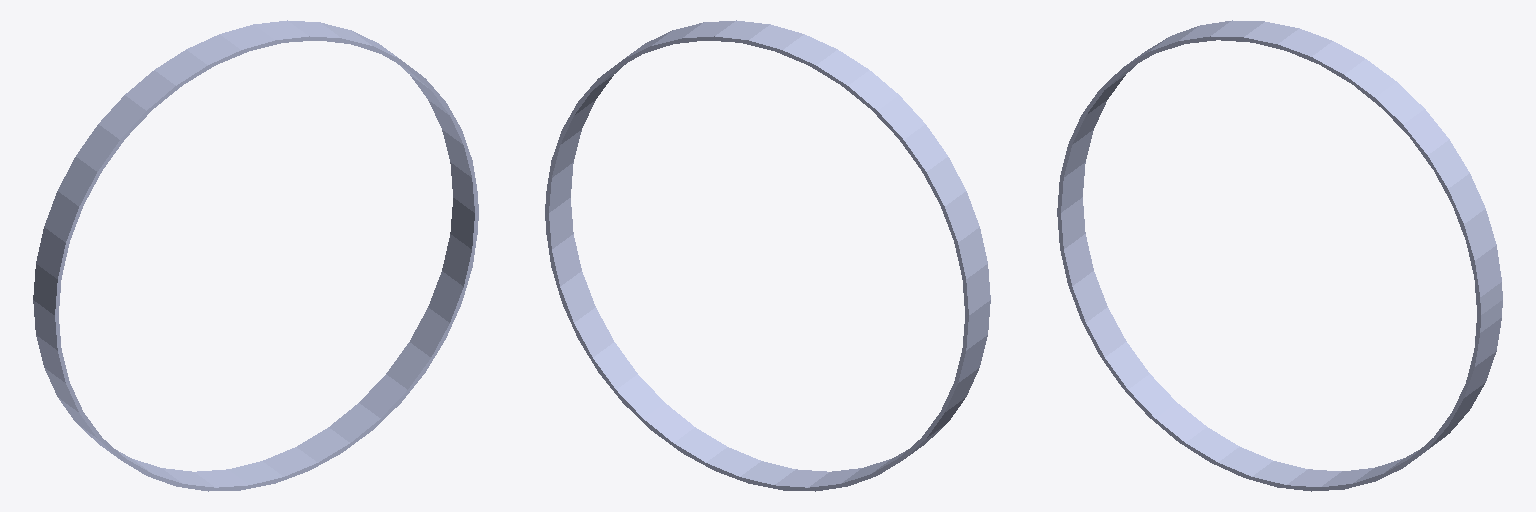
The robot description file, URDF, robot "ring.SLDPRT":
<robot
  name="ring.SLDPRT">
  <link
    name="ring">
    <inertial>
      <origin
        xyz="4.0968E-16 -0.015 9.18454765366783E-19"
        rpy="0 0 0" />
      <mass
        value="0.094154" />
      <inertia
        ixx="0.001312241311471"
        ixy="-6.9590790831882E-33"
        ixz="-1.3339474659106E-34"
        iyy="0.00261035959316777"
        iyz="-7.94841947889434E-20"
        izz="0.00131224131147099" />
    </inertial>
    <visual>
      <origin
        xyz="0 0 0"
        rpy="1.5707963267949 0 0" />
      <geometry>
        <mesh
          filename="package://ring/meshes/ring.STL" />
      </geometry>
      <material
        name="">
        <color
          rgba="0.79216 0.81961 0.93333 1" />
      </material>
    </visual>
    <collision>
      <origin
        xyz="0 0 0"
        rpy="1.5707963267949 0 0" />
      <geometry>
        <mesh
          filename="package://ring/meshes/ring.STL" />
      </geometry>
    </collision>
  </link>
</robot>

--- What the picture shows (computed from the rendered views, not written in the file) ---
The picture shows the robot from 3 angles, left to right: view 1: azimuth 30°, elevation 25°; view 2: azimuth 150°, elevation 25°; view 3: azimuth 330°, elevation 25°; orthographic projection.
Robot: ring.SLDPRT — 1 links, 0 joints (none); root link ring; default pose: all joints at 0.
Links seen in each view (by area): view 1: ring; view 2: ring; view 3: ring.
Link boxes in pixels (<box>): ring: <box>33,20,478,491</box>; ring: <box>545,20,990,491</box>; ring: <box>1057,20,1502,491</box>.
Size in the robot's own frame: 0.336 by 0.03 by 0.3357 metres.
1 mesh visuals loaded from 1 distinct referenced files (1 binary STL).